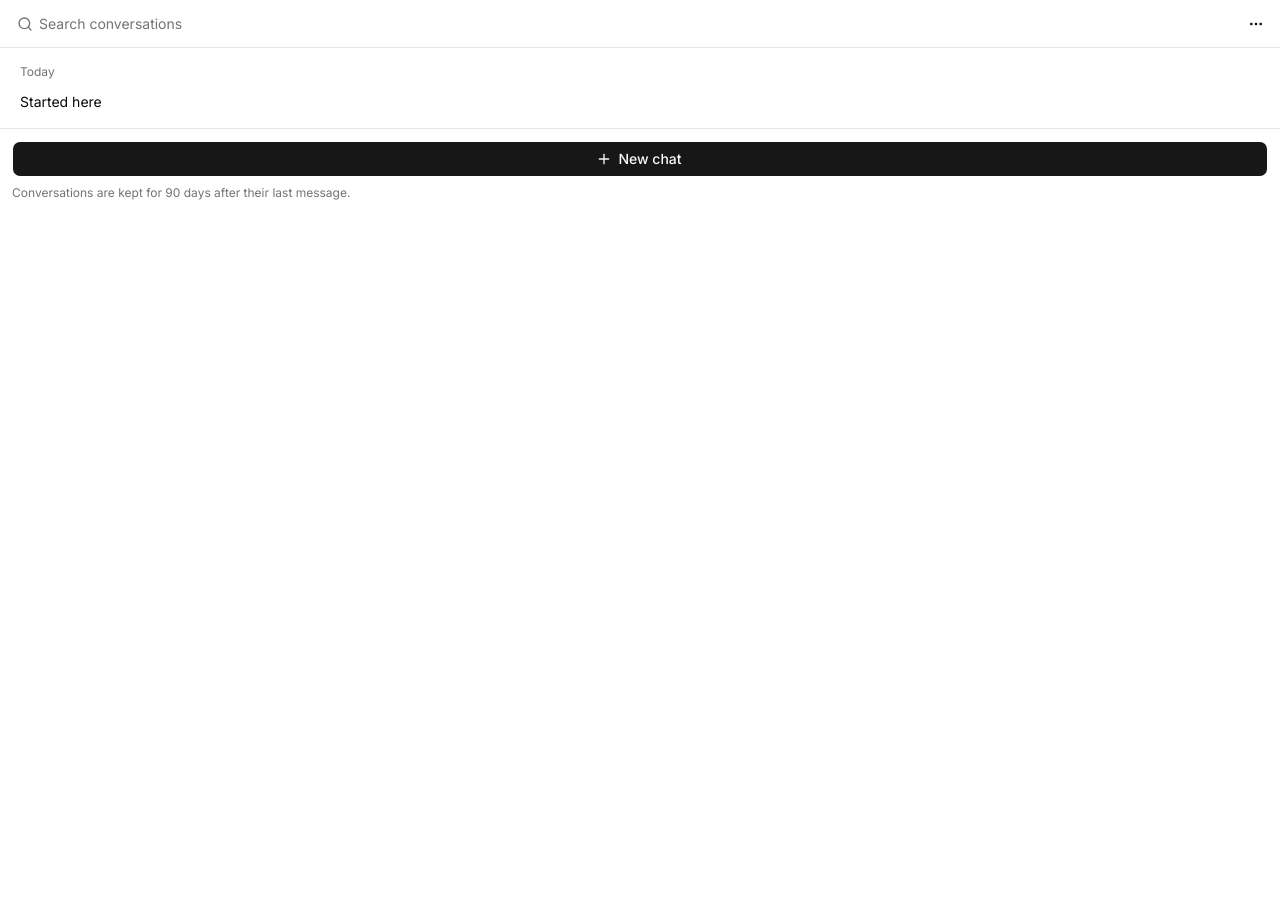
SCR-04 delete Conversations dialog (T30, AC-37) › a Conversation started in place, then deleted › "Delete all" removes it and shows the empty list
expect the text "Started here" is shown: met, box x1=20 y1=92 x2=102 y2=112
Step 1. Click the button named "Conversation actions" → click(1256, 24), box x1=1240 y1=8 x2=1272 y2=40
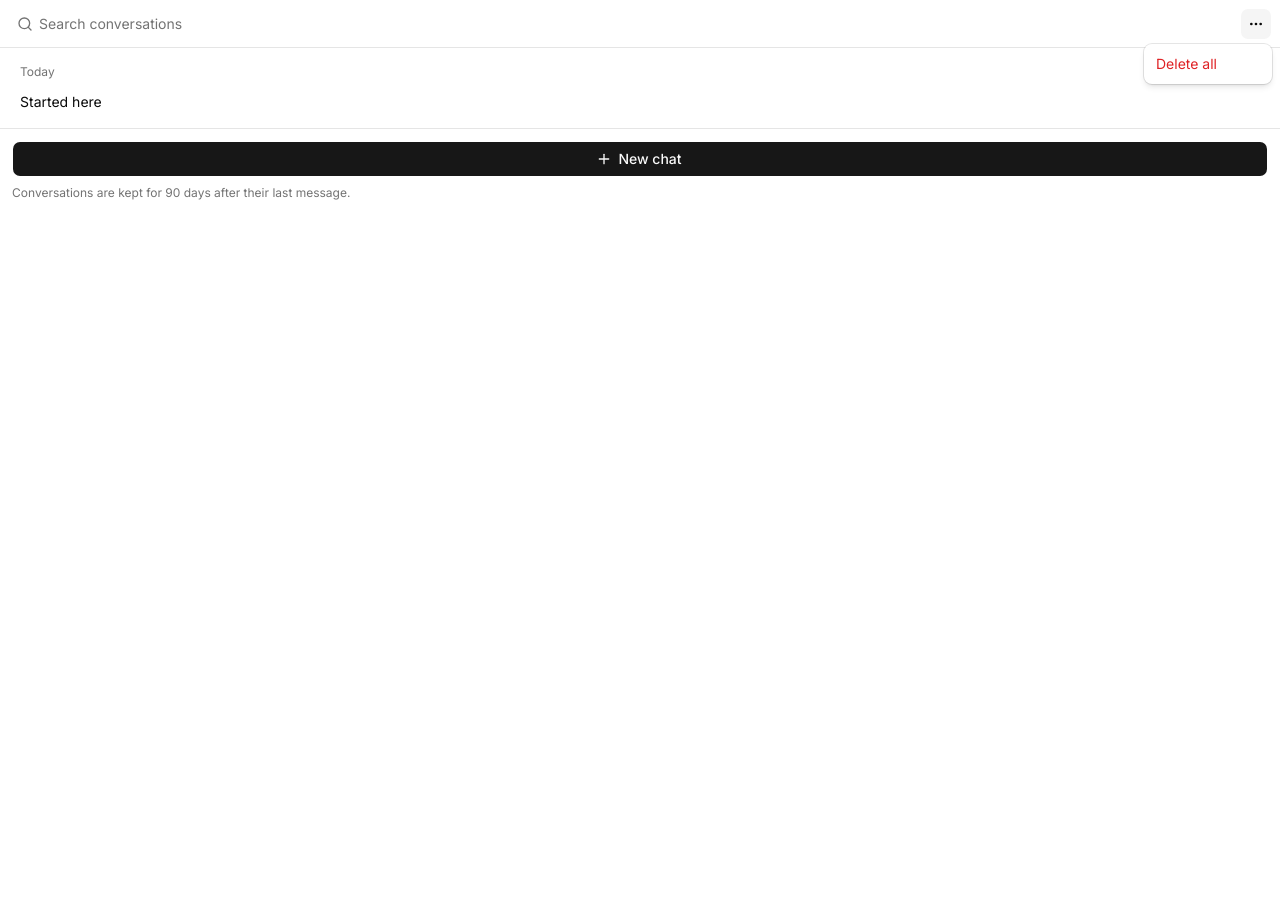
Step 2. Click the menu item "Delete all" → click(1186, 64), box x1=1156 y1=55 x2=1217 y2=72
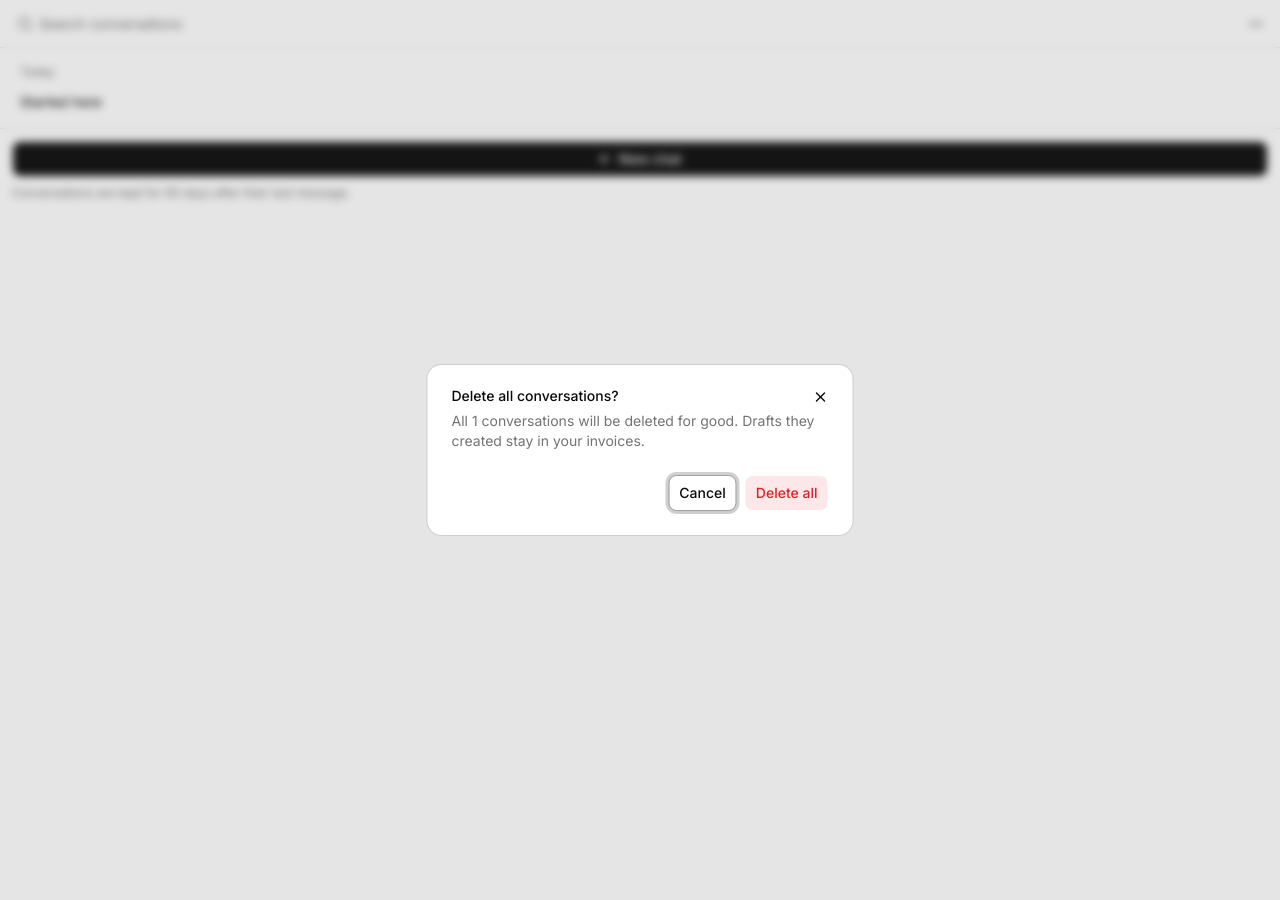
Step 3. Click the button "Delete all" → click(787, 493), box x1=745 y1=475 x2=828 y2=511
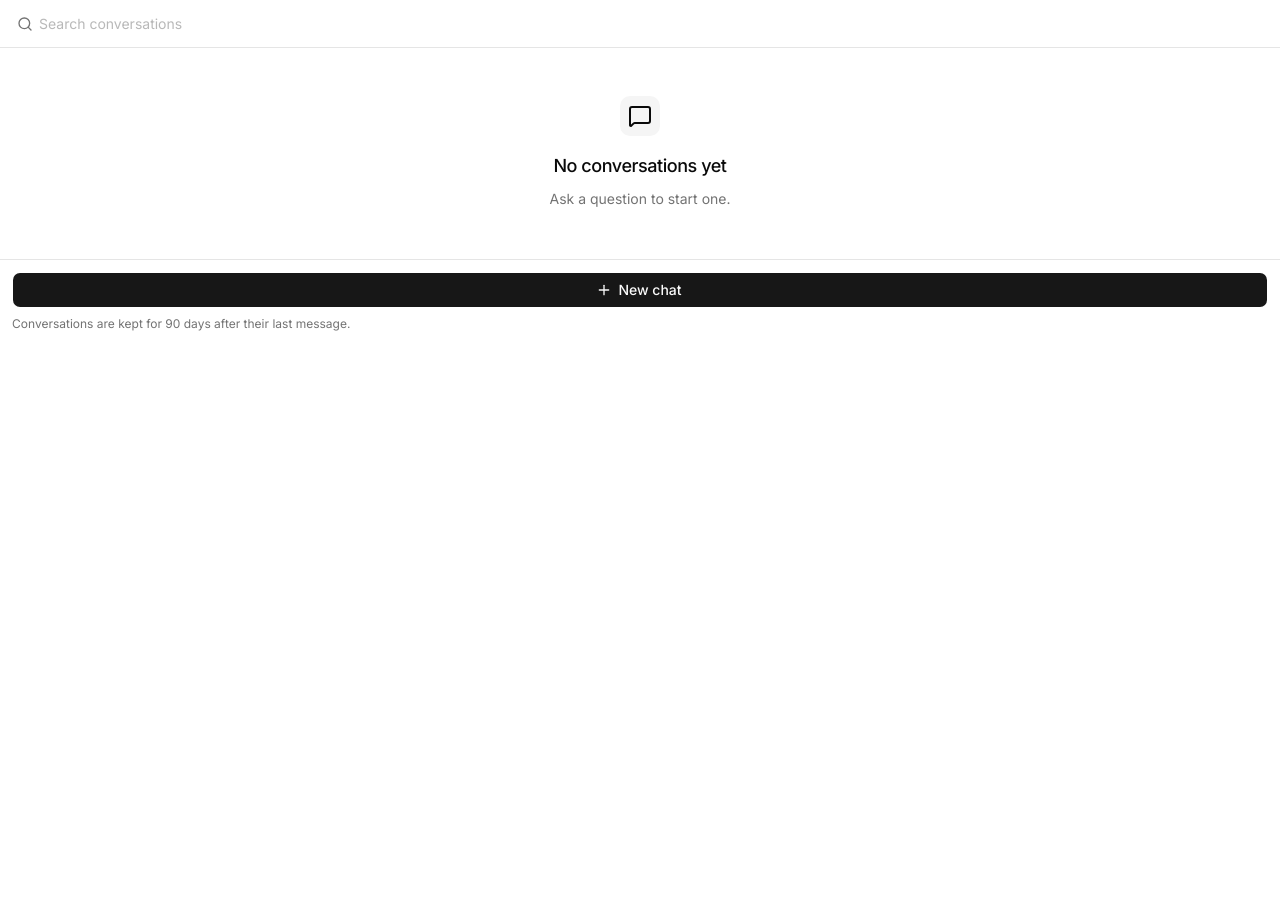
expect the link "Started here" is gone: met
